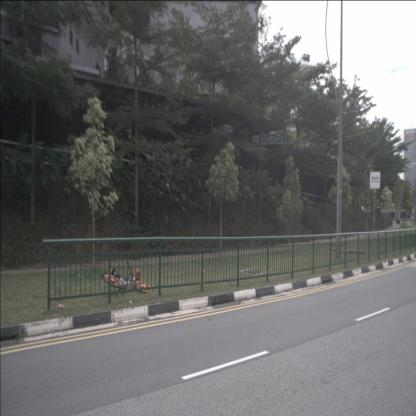vehicle-bicycle: (101, 254, 153, 295)
